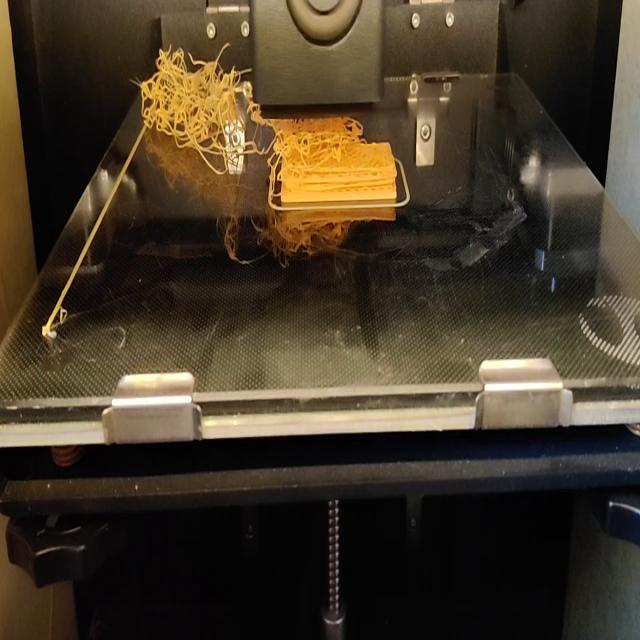spaghetti: (133, 40, 249, 185), (254, 109, 361, 175)
